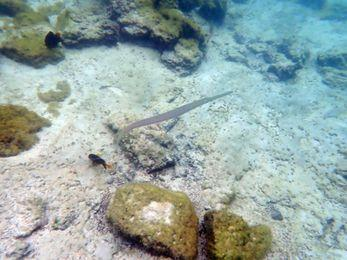Fistularia commersonii: (102, 71, 243, 138)
